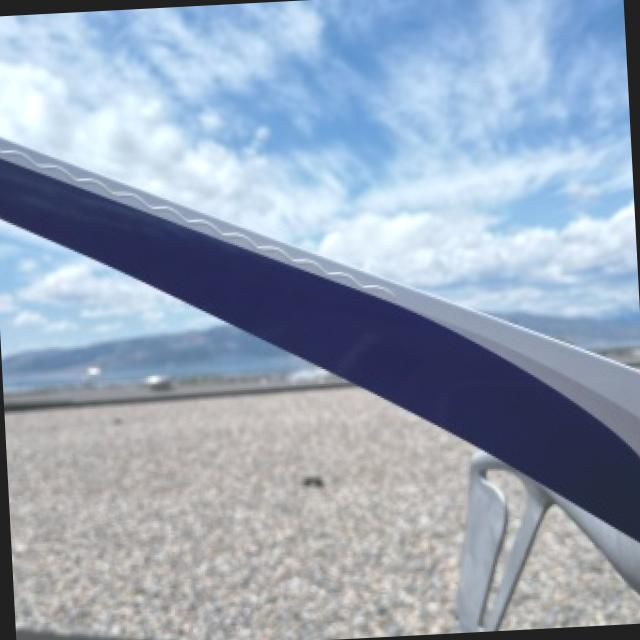healthy: (0, 135, 640, 630), (502, 506, 640, 629)
